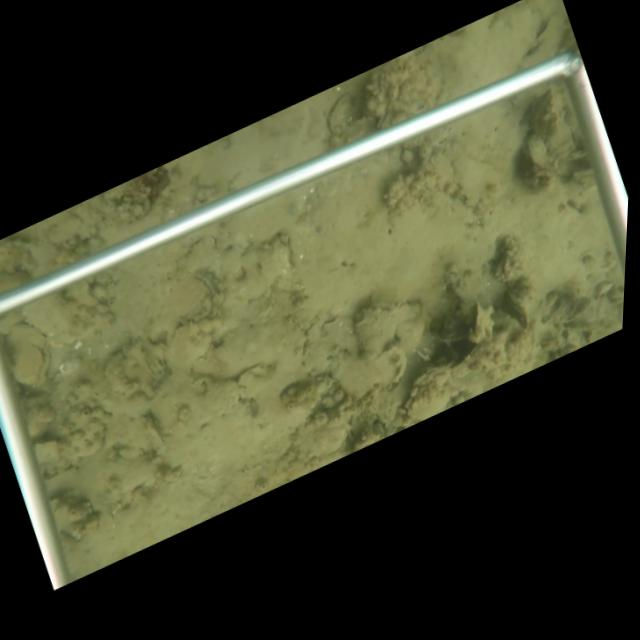Oyster-Closed: (148, 272, 218, 343), (5, 320, 53, 390), (291, 414, 352, 461), (65, 279, 113, 317), (503, 287, 532, 335), (325, 90, 355, 136), (135, 340, 165, 385), (468, 301, 497, 343), (144, 421, 168, 453), (374, 111, 394, 130)
Oyster-Indeterminate: (194, 315, 307, 381), (354, 295, 424, 363), (163, 325, 215, 374)
Oyster-Open: (493, 252, 516, 283)
